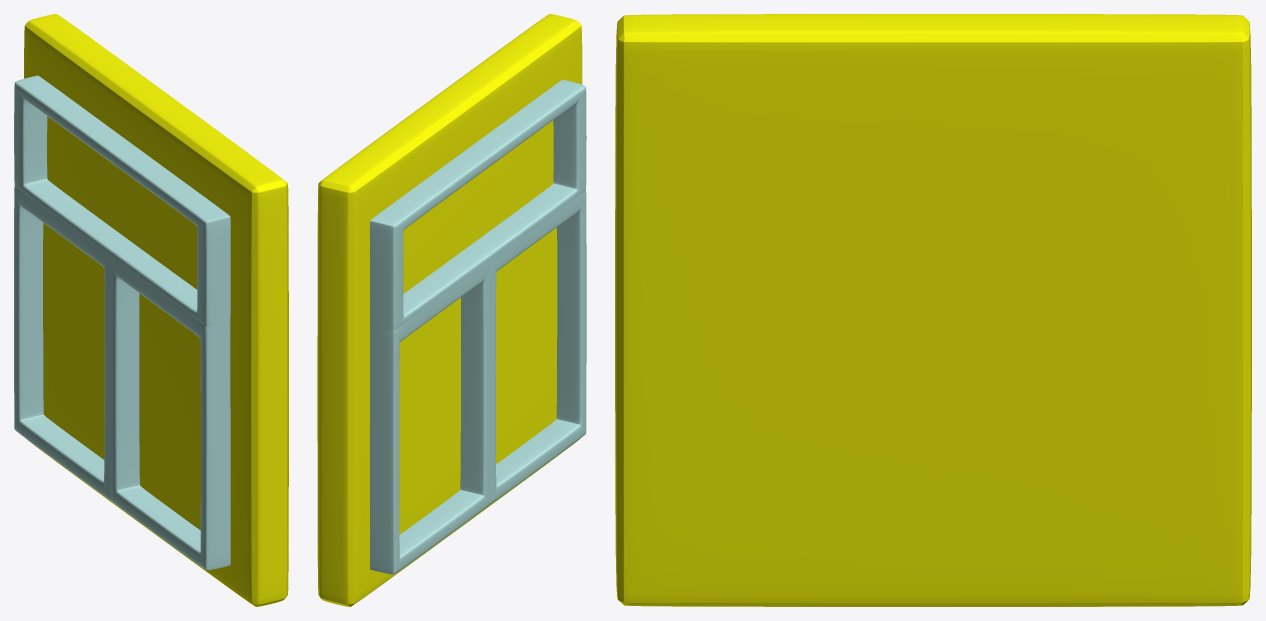
3 views of the same model, side by side, from view 1: azimuth 30°, elevation 25°; view 2: azimuth 150°, elevation 25°; view 3: azimuth 270°, elevation 25° (orthographic). The views are drawn at different scales.
Parts seen in each view (by area): view 1: polySurface1224; view 2: polySurface1224; view 3: polySurface1224.
Boxes of the visible parts, bbox=[...] form: polySurface1224: bbox=[14, 14, 288, 606]; polySurface1224: bbox=[317, 14, 586, 606]; polySurface1224: bbox=[615, 14, 1251, 606].
Bounding box in the file's own units: 0.1581 × 0.9995 × 0.9995.
